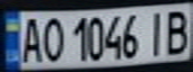0: (84, 14, 106, 61)
1: (66, 14, 87, 61)
4: (103, 11, 127, 61)
6: (121, 10, 145, 60)
A: (18, 13, 45, 64)
B: (160, 6, 193, 55)
I: (142, 7, 169, 56)
O: (39, 14, 66, 63)
